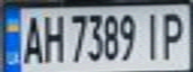3: (84, 10, 106, 62)
7: (66, 10, 87, 63)
8: (103, 10, 121, 62)
9: (118, 10, 142, 62)
A: (18, 11, 45, 65)
H: (39, 10, 66, 64)
I: (139, 9, 166, 61)
P: (157, 8, 190, 61)
